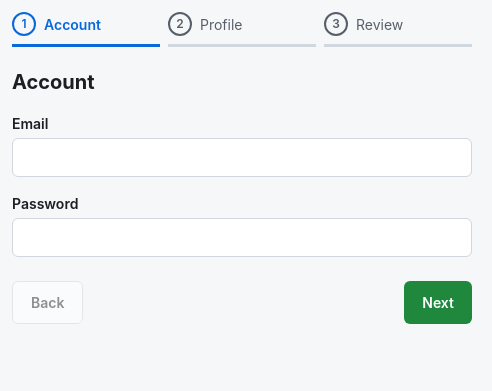
rejects a malformed email and a short password
In the field labelled "Email": (242, 158) [12, 138, 472, 177], type "ada@example"
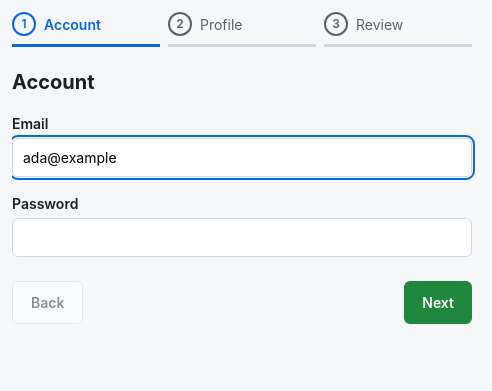
In the password field labelled "Password": (242, 238) [12, 218, 472, 257], type "short"
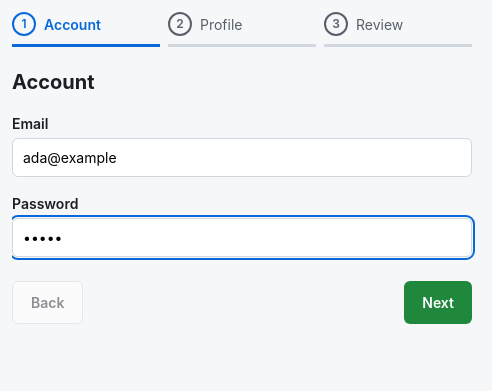
Click the button "Next": (438, 302) [404, 281, 472, 324]
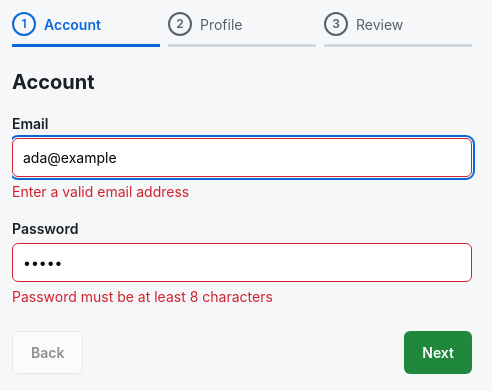
expect the heading "Account" is shown: met, box [12, 70, 94, 94]
expect the text "Enter a valid email address" is shown: met, box [12, 183, 189, 200]
expect the text "Password must be at least 8 characters" is shown: met, box [12, 288, 273, 305]
